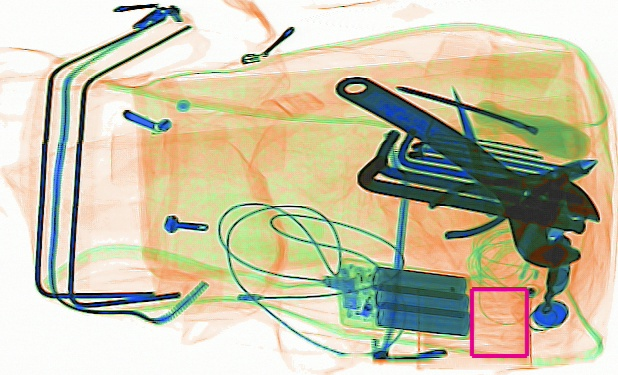powerbank: (334, 257, 474, 342)
